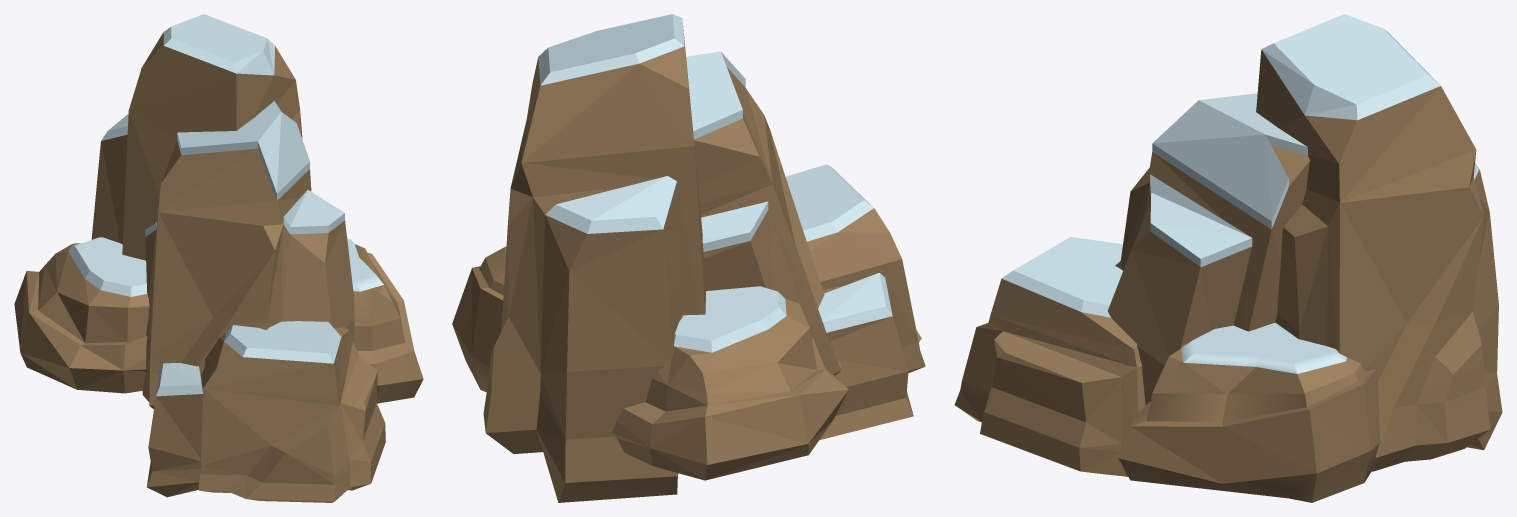
File: SM_Env_RockPile_03_Snow.gltf
3 renders of one model, left to right at view 1: azimuth 30°, elevation 25°; view 2: azimuth 150°, elevation 25°; view 3: azimuth 270°, elevation 25°, orthographic. The views are drawn at different scales.
Visible parts, largest first — view 1: SM_Env_RockPile_03_Snow; view 2: SM_Env_RockPile_03_Snow; view 3: SM_Env_RockPile_03_Snow.
Part boxes in pixels (x1,y1,x2,y2): SM_Env_RockPile_03_Snow: [14, 14, 423, 502]; SM_Env_RockPile_03_Snow: [452, 14, 925, 502]; SM_Env_RockPile_03_Snow: [954, 14, 1502, 502].
Bounding box in the file's own units: 4.95 × 5.28 × 6.1.
Materials: 1 (1 with a texture image).
